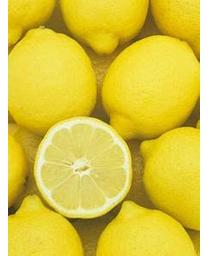lemon: (101, 33, 201, 137), (34, 116, 133, 221), (8, 26, 99, 131), (92, 204, 197, 255), (61, 0, 150, 49)
